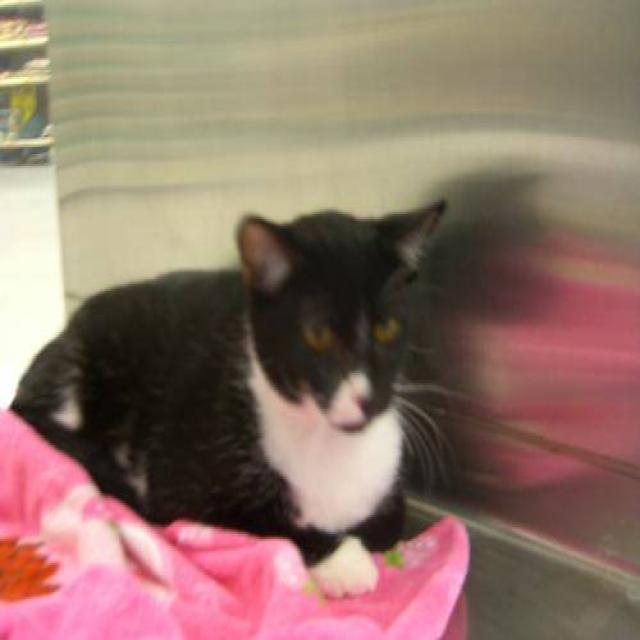cat: (6, 156, 473, 607)
